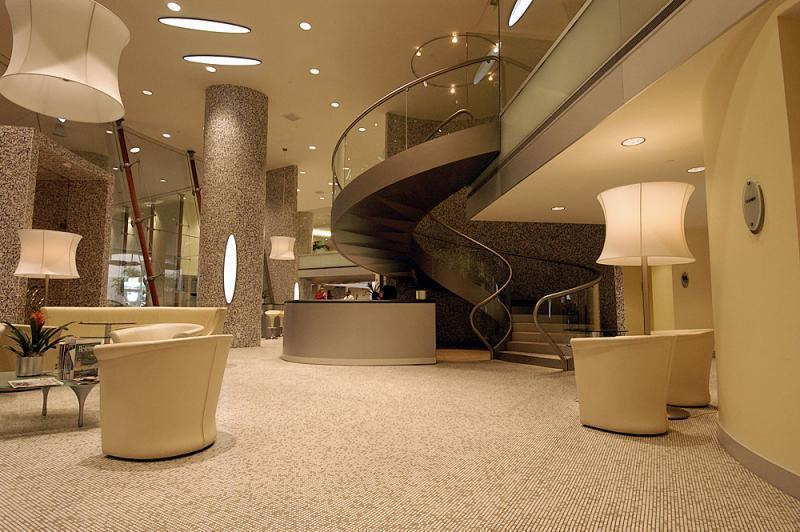Escaleras: (328, 79, 594, 364)
